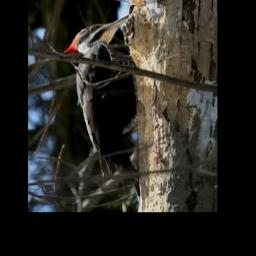Woodpecker: (62, 14, 138, 202)
